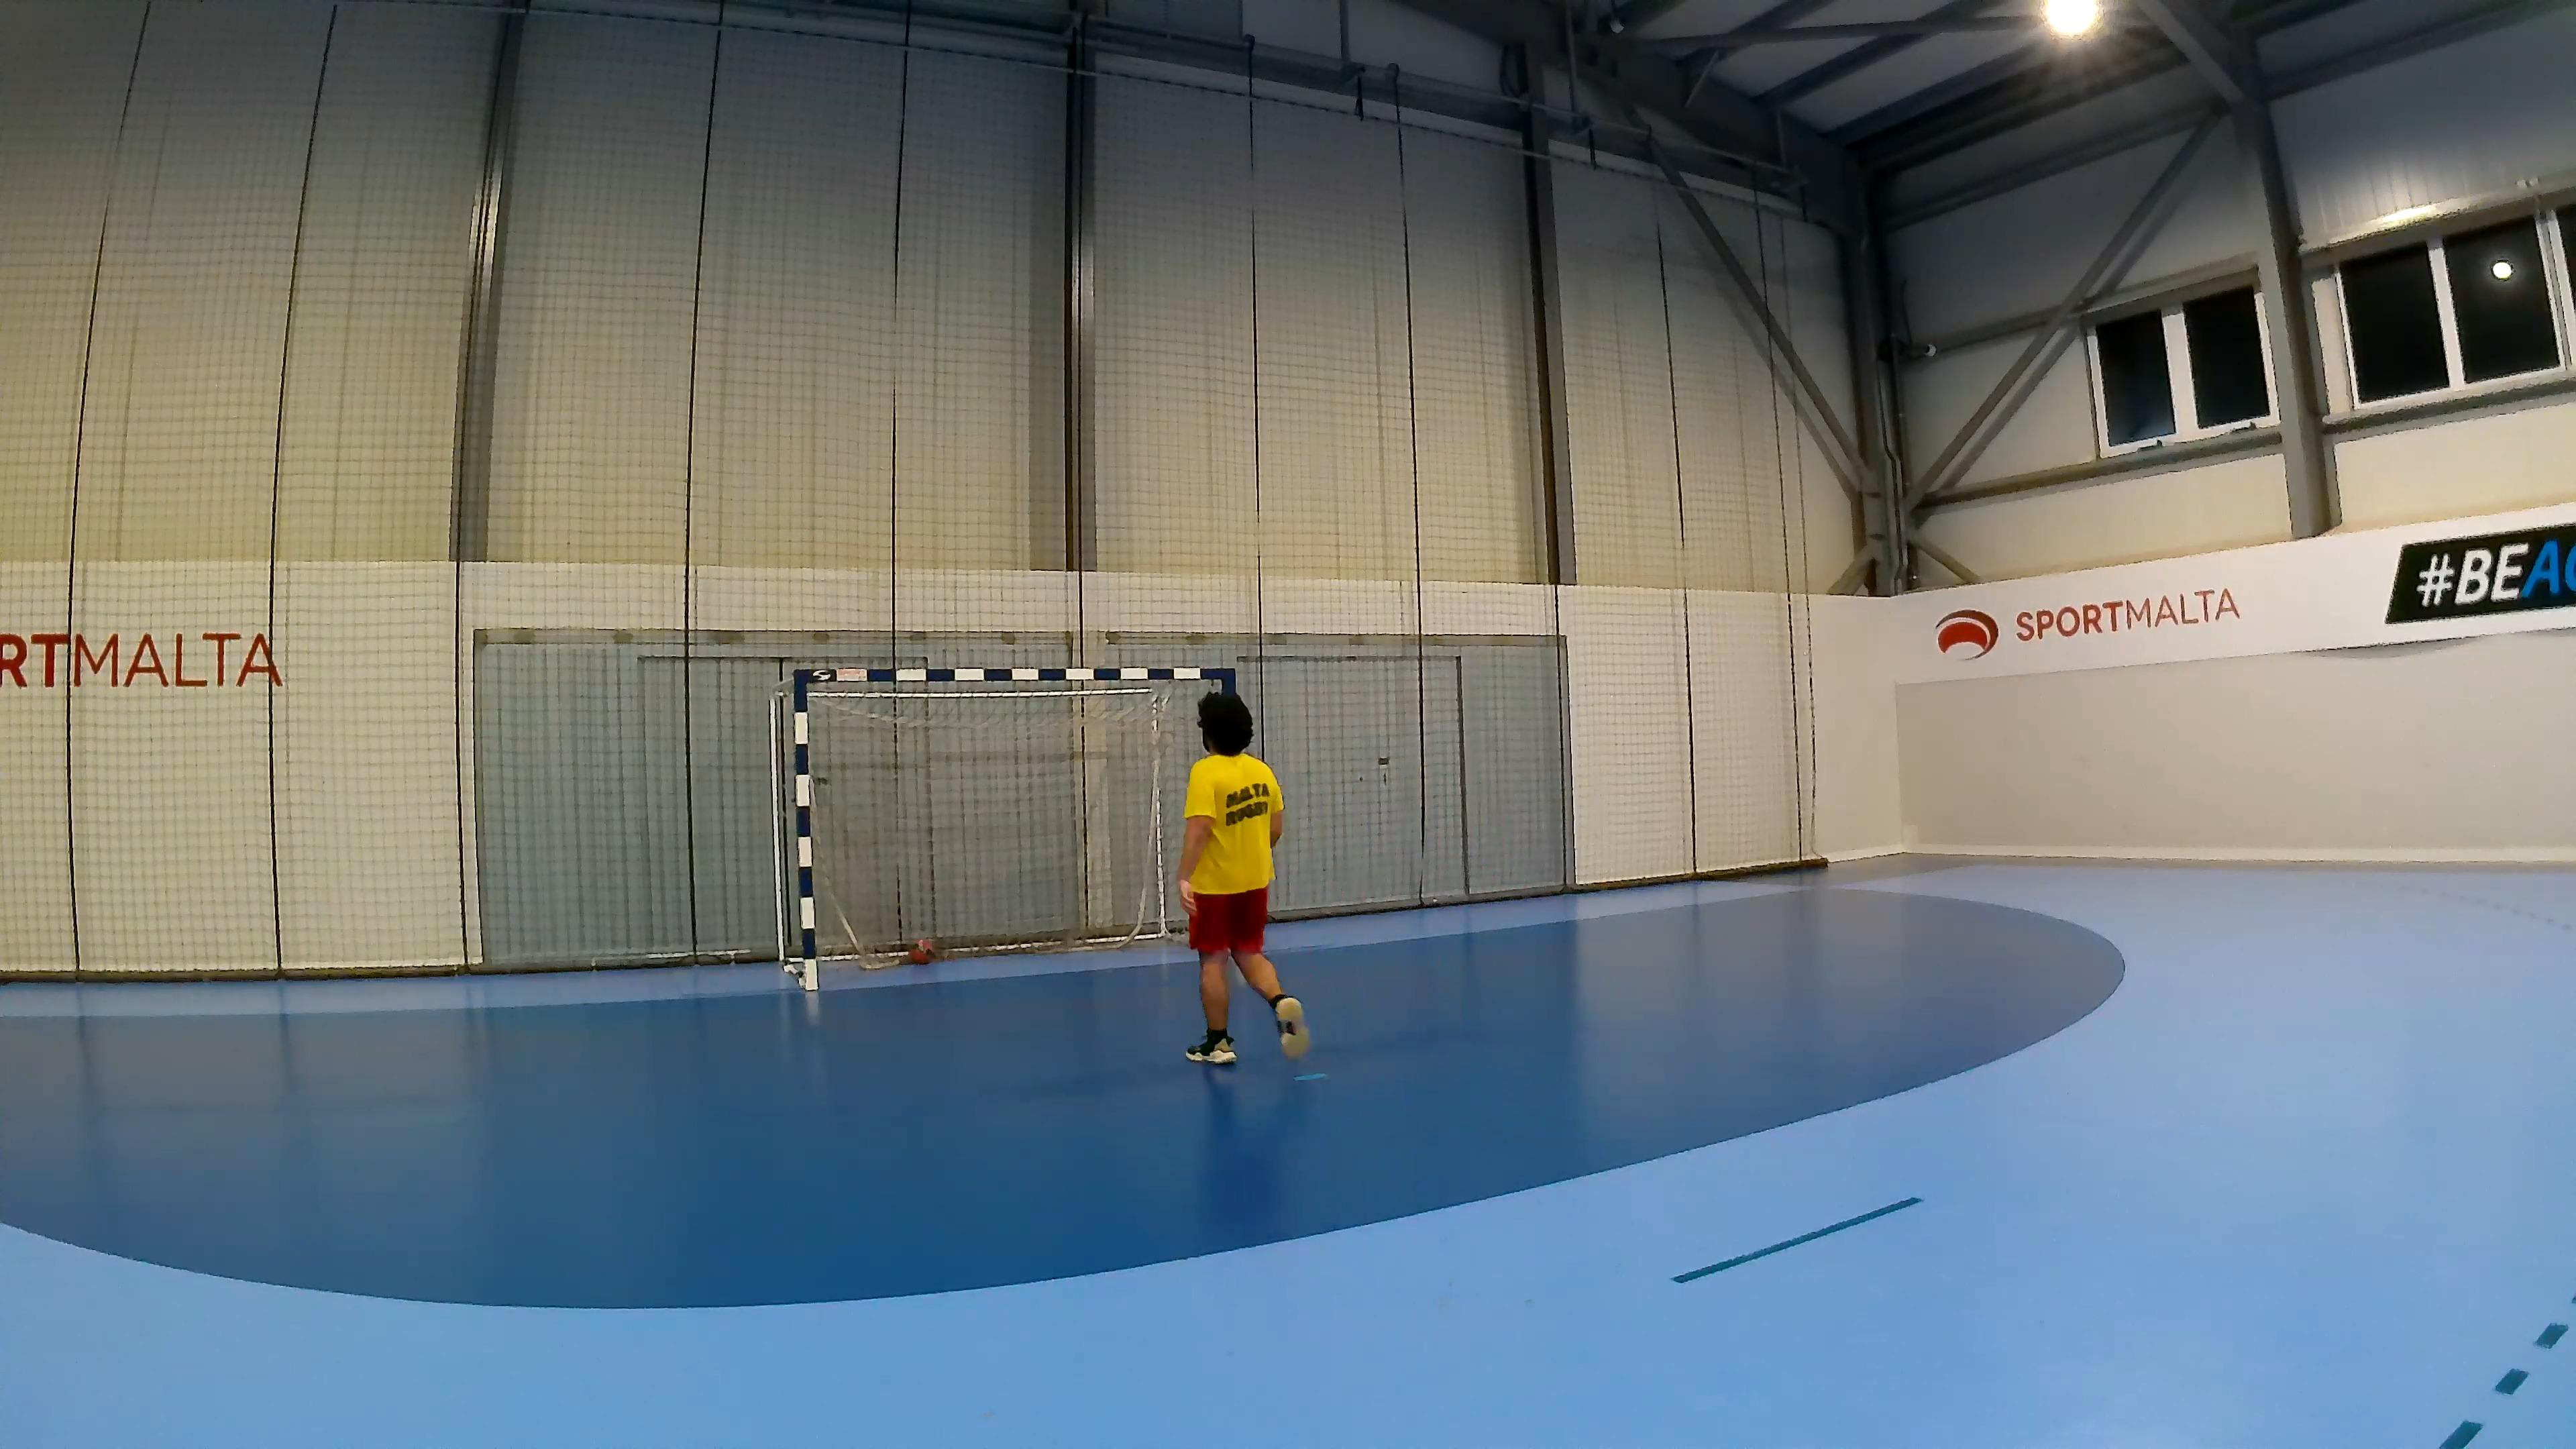handball: (904, 934, 939, 970)
